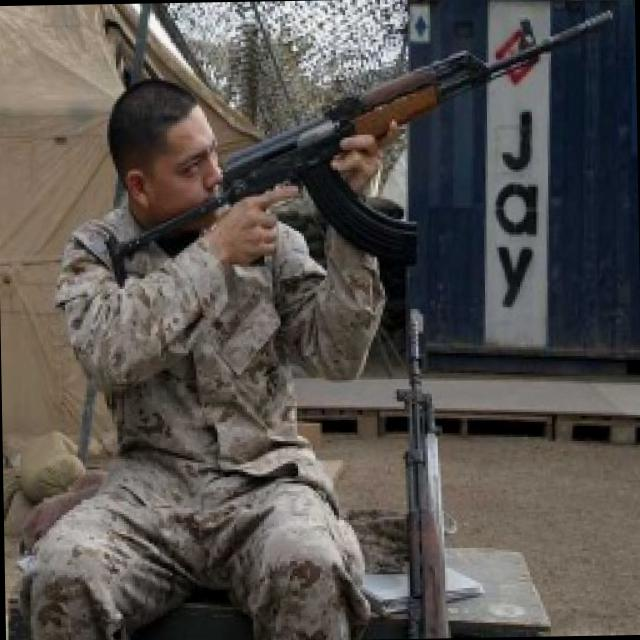long weapon: (107, 9, 619, 297)
